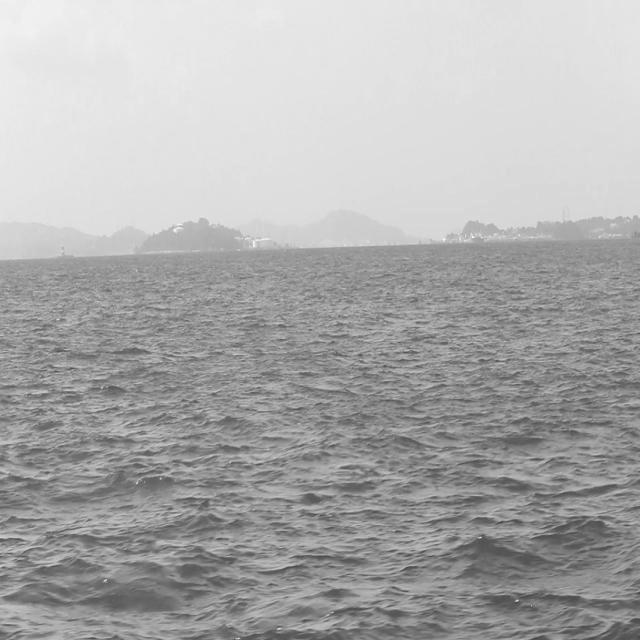buoy: (51, 240, 74, 260)
